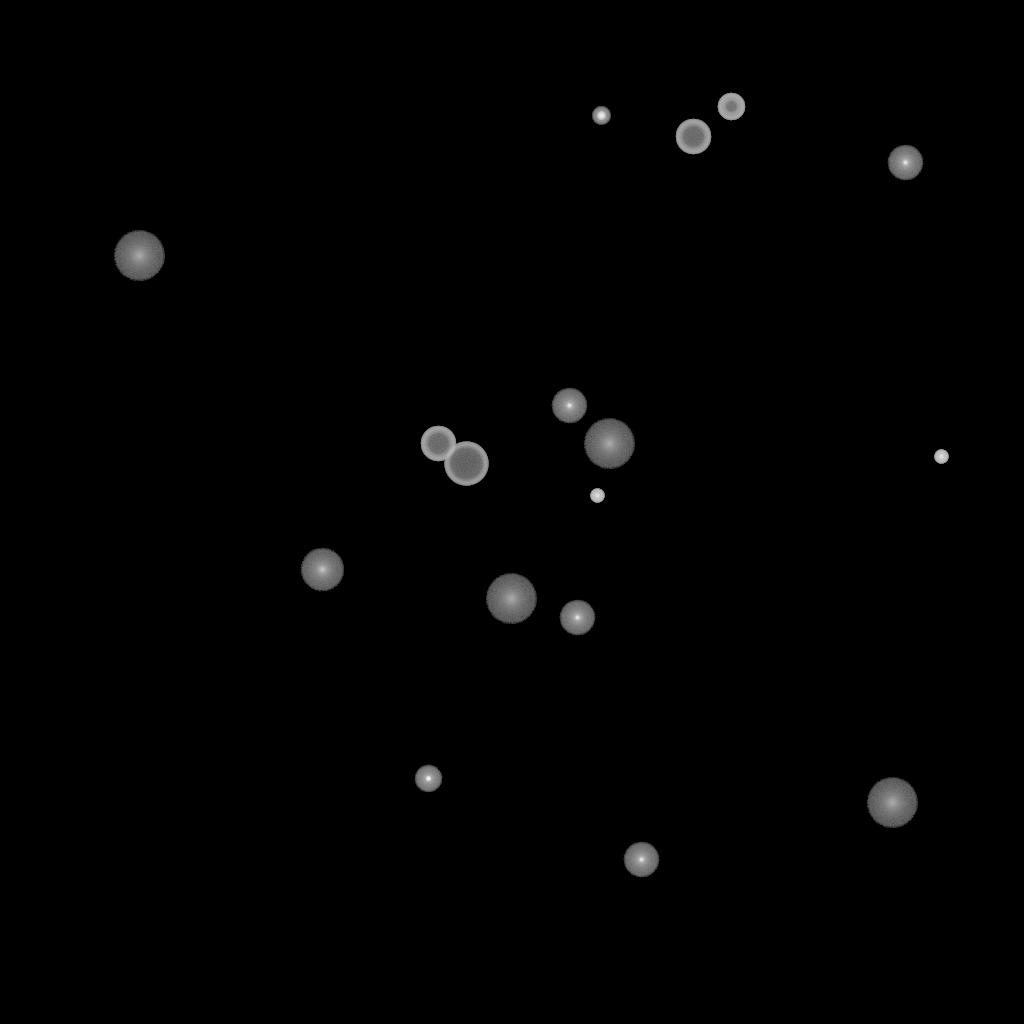depth:-10: (414, 765, 442, 793)
depth:-20: (592, 107, 610, 125)
depth:-30: (590, 489, 604, 503), (934, 450, 948, 464)
depth:-50: (717, 93, 745, 121)
depth:-60: (675, 119, 711, 155), (420, 426, 456, 462)
depth:-70: (444, 442, 488, 486)
depth:0: (887, 145, 923, 181), (559, 600, 595, 636), (551, 388, 587, 424), (623, 842, 659, 878)
depth:10: (300, 548, 344, 592)
depth:20: (113, 231, 165, 281), (866, 778, 918, 828), (583, 419, 635, 469), (485, 574, 537, 624)
